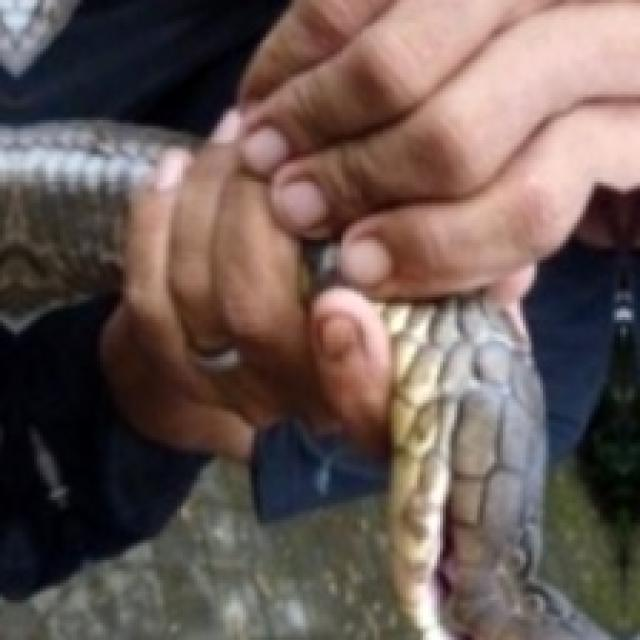king cobra: (0, 460, 423, 637), (0, 120, 180, 511), (383, 300, 537, 637)
